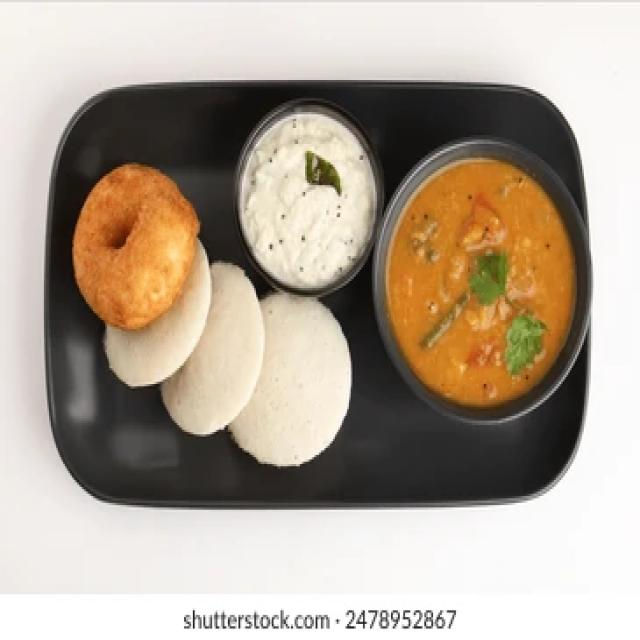IDLI: (231, 298, 353, 461), (99, 243, 213, 383), (165, 266, 260, 426)
MEDU VADA: (75, 164, 197, 333)
